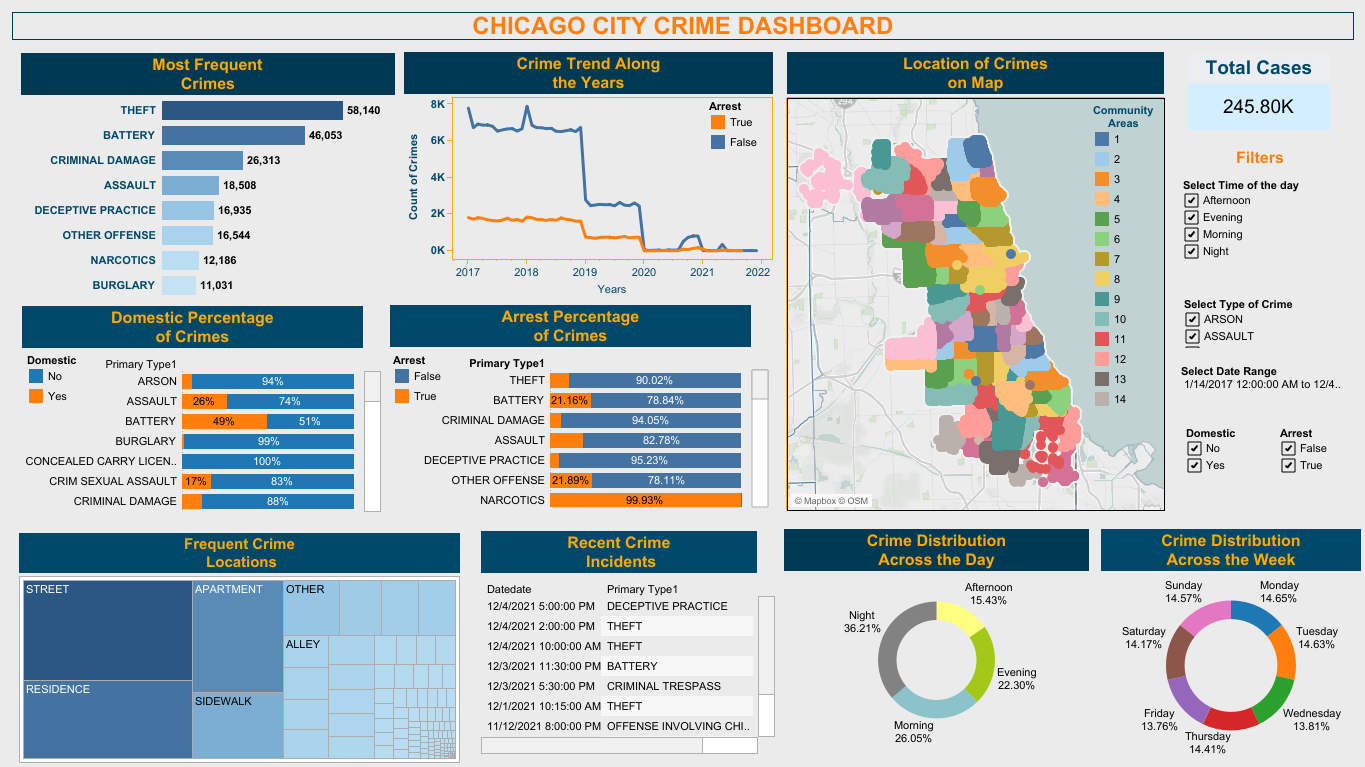

The page's visual inventory and layout, read from the dashboard file:
{"tool":"tableau","page":{"name":"Chicago Crime DashBoard","canvas":[1366,768],"ordinal":0},"visuals":[{"type":"title","box":[8,8,1350,36]},{"type":"worksheet","title":"Count of Crimes Vs Years","mark":"Automatic","rows":["ID"],"cols":["Calculation_821906970320629760"],"box":[404,52,369,248]},{"type":"worksheet","title":"Crime locations","mark":"Automatic","rows":["Latitude"],"cols":["Longitude"],"box":[786,52,379,459]},{"type":"worksheet","title":"Sheet 12","mark":"Automatic","rows":["Primary Type"],"cols":["Primary Type"],"box":[21,53,374,247]},{"type":"worksheet","title":"Sheet 23","mark":"Automatic","box":[1188,54,151,81]},{"type":"legend","title":"Count of Crimes Vs Years","param":"[federated.10ayybb1ppzs391fnswec0xpg9md].[none:Arrest:nk]","box":[708,98,62,58]},{"type":"legend","title":"Crime locations","param":"[federated.10ayybb1ppzs391fnswec0xpg9md].[none:Community Area:ok]","box":[1092,102,68,309]},{"type":"text","box":[1210,142,100,30]},{"type":"filter","title":"Crime locations","param":"[federated.10ayybb1ppzs391fnswec0xpg9md].[none:Calculation_594193714805497856:nk","box":[1183,178,160,109]},{"type":"filter","title":"Crime locations","param":"[federated.10ayybb1ppzs391fnswec0xpg9md].[none:Primary Type:nk]","box":[1184,297,160,51]},{"type":"worksheet","title":"Sheet 19","mark":"Automatic","rows":["Primary Type"],"box":[390,305,379,202]},{"type":"worksheet","title":"Sheet 18","mark":"Automatic","rows":["Primary Type"],"box":[22,306,359,205]},{"type":"legend","title":"Sheet 18","param":"[federated.10ayybb1ppzs391fnswec0xpg9md].[none:Domestic:nk]","box":[26,352,53,54]},{"type":"legend","title":"Sheet 19","param":"[federated.10ayybb1ppzs391fnswec0xpg9md].[none:Arrest:nk]","box":[392,352,56,54]},{"type":"filter","title":"Crime locations","param":"[federated.10ayybb1ppzs391fnswec0xpg9md].[none:Calculation_821906970320629760:qk","box":[1181,364,160,60]},{"type":"filter","title":"Crime locations","param":"[federated.10ayybb1ppzs391fnswec0xpg9md].[none:Domestic:nk]","box":[1186,426,74,77]},{"type":"filter","title":"Crime locations","param":"[federated.10ayybb1ppzs391fnswec0xpg9md].[none:Arrest:nk]","box":[1280,426,71,73]},{"type":"worksheet","title":"Sheet 15","mark":"Pie","rows":["Calculation_744501353480871937","Calculation_744501353480916995"],"box":[784,529,305,217]},{"type":"worksheet","title":"Sheet 17","mark":"Pie","rows":["Calculation_744501353483640837","Calculation_744501353483653127"],"box":[1101,529,260,228]},{"type":"worksheet","title":"Sheet 22","mark":"Automatic","rows":["Date (copy)_594193714831376389","Primary Type"],"box":[481,531,294,223]},{"type":"worksheet","title":"Sheet 20","mark":"Automatic","box":[19,533,451,230]}]}

Visuals, with their boxes in screenshot pixels (x1, y1, x2, y2), scaled from the page's 1366x768 canvas onto the 1365x767 screenshot:
title: 8, 8, 1357, 44
"Count of Crimes Vs Years" worksheet: 404, 52, 772, 300
"Crime locations" worksheet: 785, 52, 1164, 510
"Sheet 12" worksheet: 21, 53, 395, 300
"Sheet 23" worksheet: 1187, 54, 1338, 135
"Count of Crimes Vs Years" legend: 707, 98, 769, 156
"Crime locations" legend: 1091, 102, 1159, 410
text: 1209, 142, 1309, 172
"Crime locations" filter: 1182, 178, 1342, 287
"Crime locations" filter: 1183, 297, 1343, 348
"Sheet 19" worksheet: 390, 305, 768, 506
"Sheet 18" worksheet: 22, 306, 381, 510
"Sheet 18" legend: 26, 352, 79, 405
"Sheet 19" legend: 392, 352, 448, 405
"Crime locations" filter: 1180, 364, 1340, 423
"Crime locations" filter: 1185, 425, 1259, 502
"Crime locations" filter: 1279, 425, 1350, 498
"Sheet 15" worksheet (Pie marks): 783, 528, 1088, 745
"Sheet 17" worksheet (Pie marks): 1100, 528, 1360, 756
"Sheet 22" worksheet: 481, 530, 774, 753
"Sheet 20" worksheet: 19, 532, 470, 762
